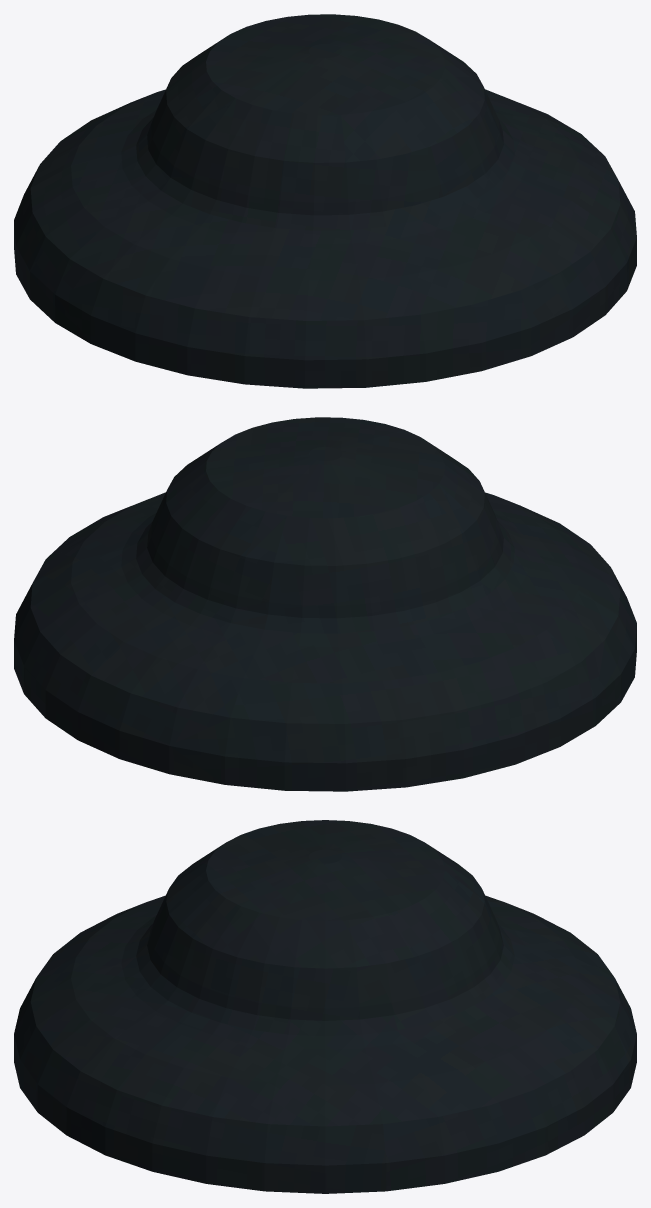
File: warehouse6_lamp_shade.dae
3 renders of one model, top to bottom at view 1: azimuth 30°, elevation 25°; view 2: azimuth 150°, elevation 25°; view 3: azimuth 270°, elevation 25°, orthographic.
Visible parts, largest first — view 1: warehouse6_part_20_01_single_lamp; view 2: warehouse6_part_20_01_single_lamp; view 3: warehouse6_part_20_01_single_lamp.
Boxes of the visible parts, x1,y1,x2,y2 form: warehouse6_part_20_01_single_lamp: [14, 14, 636, 388]; warehouse6_part_20_01_single_lamp: [14, 417, 636, 791]; warehouse6_part_20_01_single_lamp: [14, 820, 636, 1193].
Size of the model in its own units: 0.3822 by 0.3822 by 0.1392.
1 material, 1 textured.
